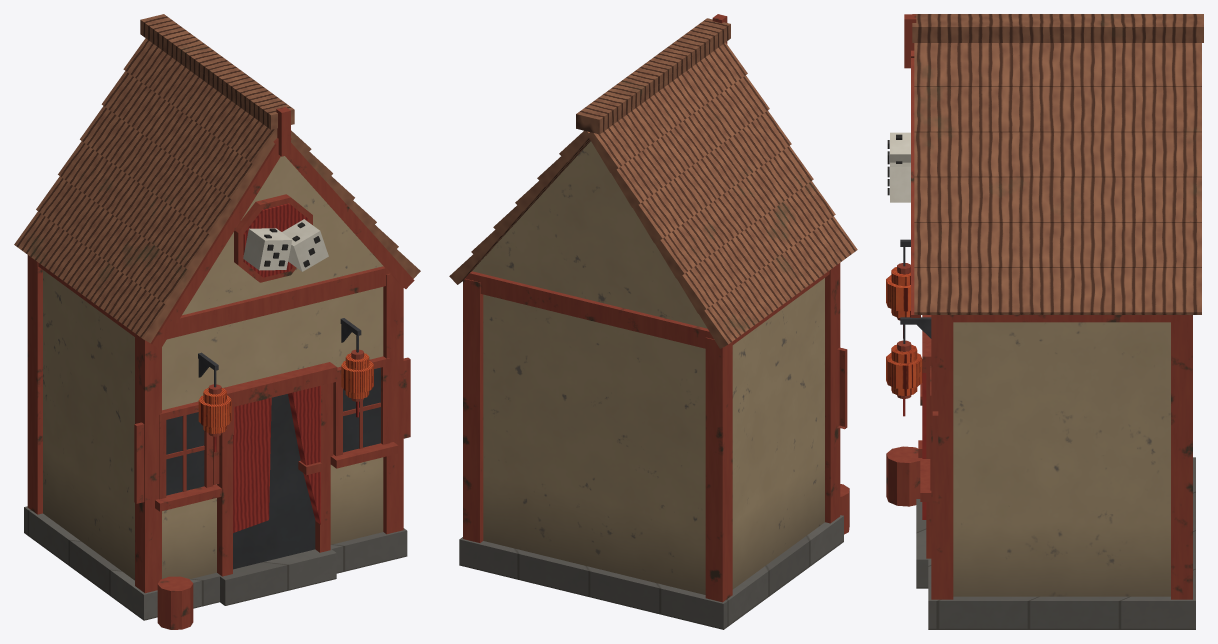
Rendered from 상점_도박소.fbx.
The picture shows the model from 3 angles, left to right: view 1: azimuth 30°, elevation 25°; view 2: azimuth 150°, elevation 25°; view 3: azimuth 270°, elevation 25°; orthographic projection. The views are drawn at different scales.
Parts seen in each view (by area): view 1: 상점_도박소; view 2: 상점_도박소; view 3: 상점_도박소.
Boxes of the visible parts, box(x1,y1,x2,y2) form: 상점_도박소: box(14, 14, 420, 629); 상점_도박소: box(449, 14, 857, 629); 상점_도박소: box(886, 14, 1203, 629).
Size of the model in its own units: 898 by 1495 by 795.
Materials: 10 (10 with a texture image).
